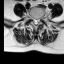CCS_normal: (35, 16, 36, 27)
LFS_stenosis: (39, 15, 41, 23)
LLS_normal: (36, 16, 39, 25)
RFS_normal: (30, 14, 33, 22)
RLS_normal: (33, 16, 35, 25)
